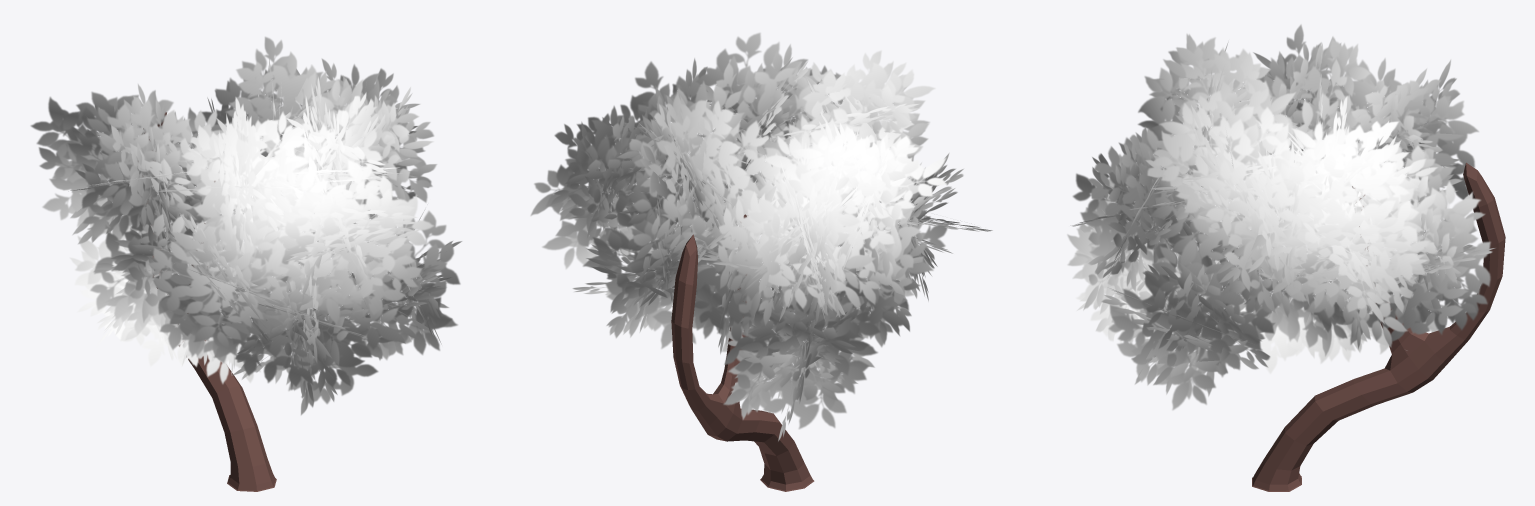
Rendered from giant_stylized_1.glb.
The picture shows the model from 3 angles, left to right: view 1: azimuth 30°, elevation 25°; view 2: azimuth 150°, elevation 25°; view 3: azimuth 270°, elevation 25°; orthographic projection. The views are drawn at different scales.
Visible parts, largest first — view 1: Plane, Willow_Dead_3; view 2: Plane, Willow_Dead_3; view 3: Plane, Willow_Dead_3.
Boxes of the visible parts, x1,y1,x2,y2 form: Plane: [30, 36, 462, 415]; Willow_Dead_3: [142, 112, 276, 491]; Plane: [530, 32, 992, 441]; Willow_Dead_3: [671, 214, 814, 491]; Plane: [1067, 24, 1495, 410]; Willow_Dead_3: [1252, 162, 1505, 491].
Bounding box in the file's own units: 7.5 × 7.82 × 7.71.
2 materials, 1 textured.
